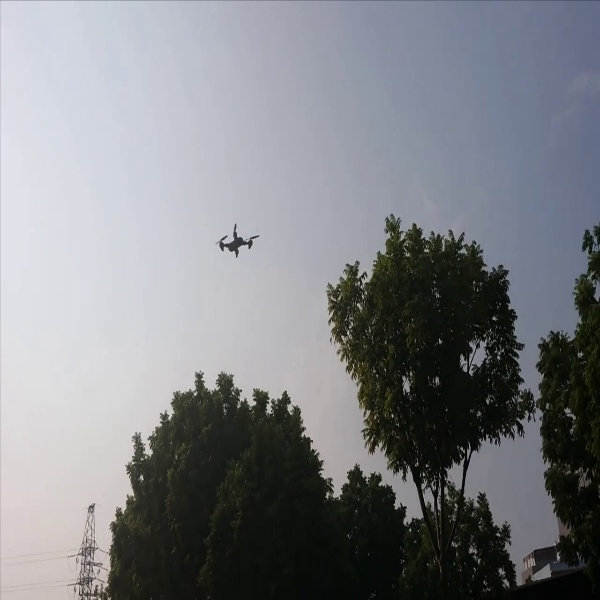drone: (209, 218, 269, 263)
